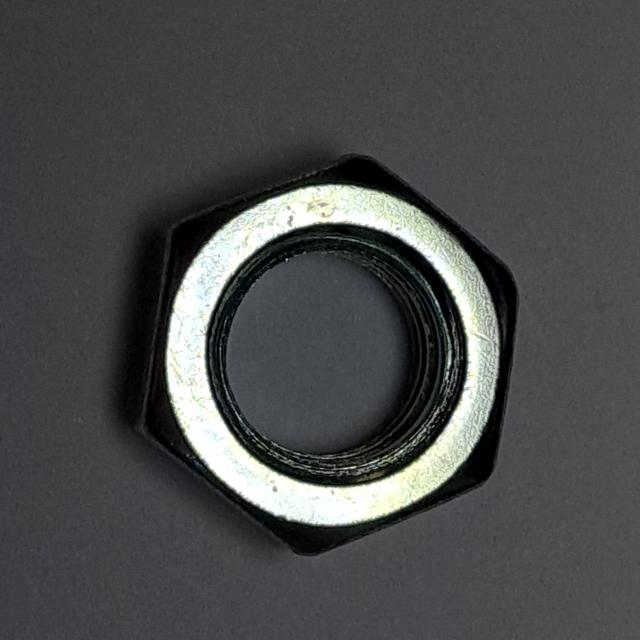Excellent: (109, 138, 535, 567)
